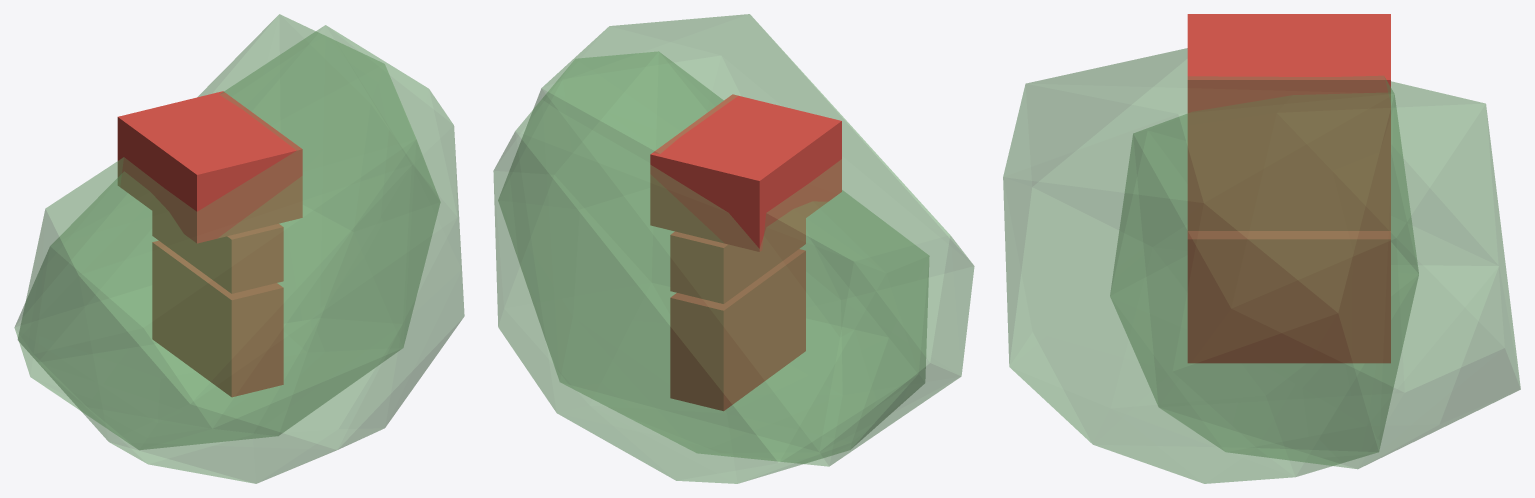
The model's file is hrp2_trunk_body_low_view.dae.
3 views of the same model, side by side, from view 1: azimuth 30°, elevation 25°; view 2: azimuth 150°, elevation 25°; view 3: azimuth 270°, elevation 25° (orthographic). The views are drawn at different scales.
Parts seen in each view (by area): view 1: Hrp2_Rleg_Rom, Hrp2_Lleg_Rom, Hrp2_Trunk_Body_002, Hrp2_Trunk_Body_0002, Hrp2_Trunk_Body_0012; view 2: Hrp2_Rleg_Rom, Hrp2_Lleg_Rom, Hrp2_Trunk_Body_002, Hrp2_Trunk_Body_0002, Hrp2_Trunk_Body_0012; view 3: Hrp2_Rleg_Rom, Hrp2_Lleg_Rom, Hrp2_Trunk_Body_002, Hrp2_Trunk_Body_0002, Hrp2_Trunk_Body_0012.
Part boxes in pixels (x1,y1,x2,y2): Hrp2_Rleg_Rom: (17, 25, 464, 483); Hrp2_Lleg_Rom: (14, 14, 440, 449); Hrp2_Trunk_Body_002: (117, 91, 302, 243); Hrp2_Trunk_Body_0002: (152, 240, 283, 397); Hrp2_Trunk_Body_0012: (152, 211, 283, 293); Hrp2_Rleg_Rom: (498, 14, 974, 466); Hrp2_Lleg_Rom: (493, 51, 929, 483); Hrp2_Trunk_Body_002: (650, 94, 841, 251); Hrp2_Trunk_Body_0002: (670, 249, 805, 410); Hrp2_Trunk_Body_0012: (670, 218, 805, 303); Hrp2_Rleg_Rom: (1003, 48, 1418, 483); Hrp2_Lleg_Rom: (1110, 81, 1520, 469); Hrp2_Trunk_Body_002: (1187, 14, 1390, 167); Hrp2_Trunk_Body_0002: (1187, 231, 1390, 363); Hrp2_Trunk_Body_0012: (1187, 167, 1390, 230).
Bounding box in the file's own units: 1.26 × 1.09 × 1.05.
